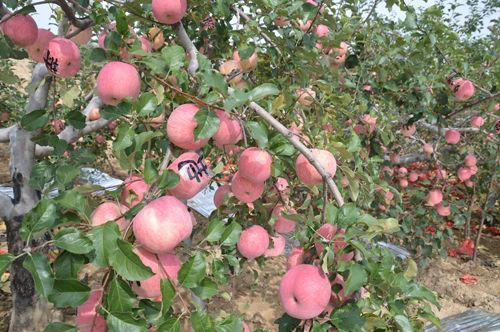apple: (133, 195, 194, 254), (279, 264, 332, 317), (96, 60, 141, 106), (165, 152, 208, 200), (166, 103, 210, 149), (295, 146, 336, 185), (44, 38, 81, 78), (1, 13, 39, 48), (210, 107, 242, 146), (236, 225, 270, 261), (238, 146, 272, 182), (230, 171, 265, 201), (27, 28, 57, 63), (152, 1, 188, 24), (453, 80, 475, 100)
